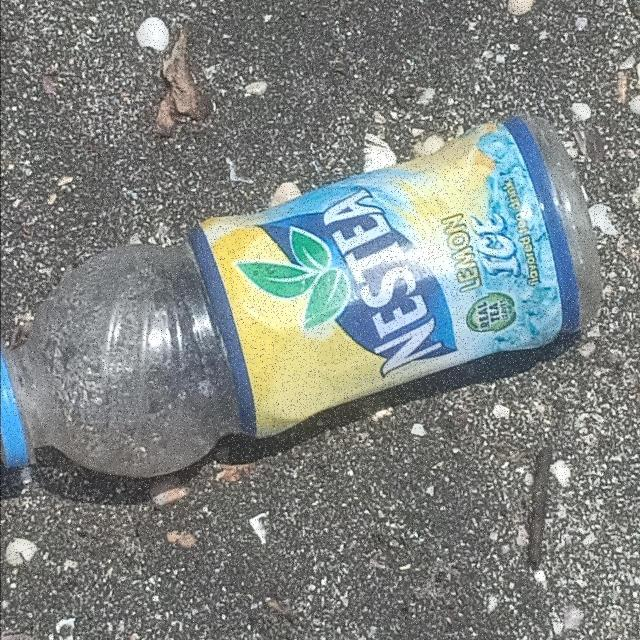plastic_waste: (1, 113, 609, 487)
